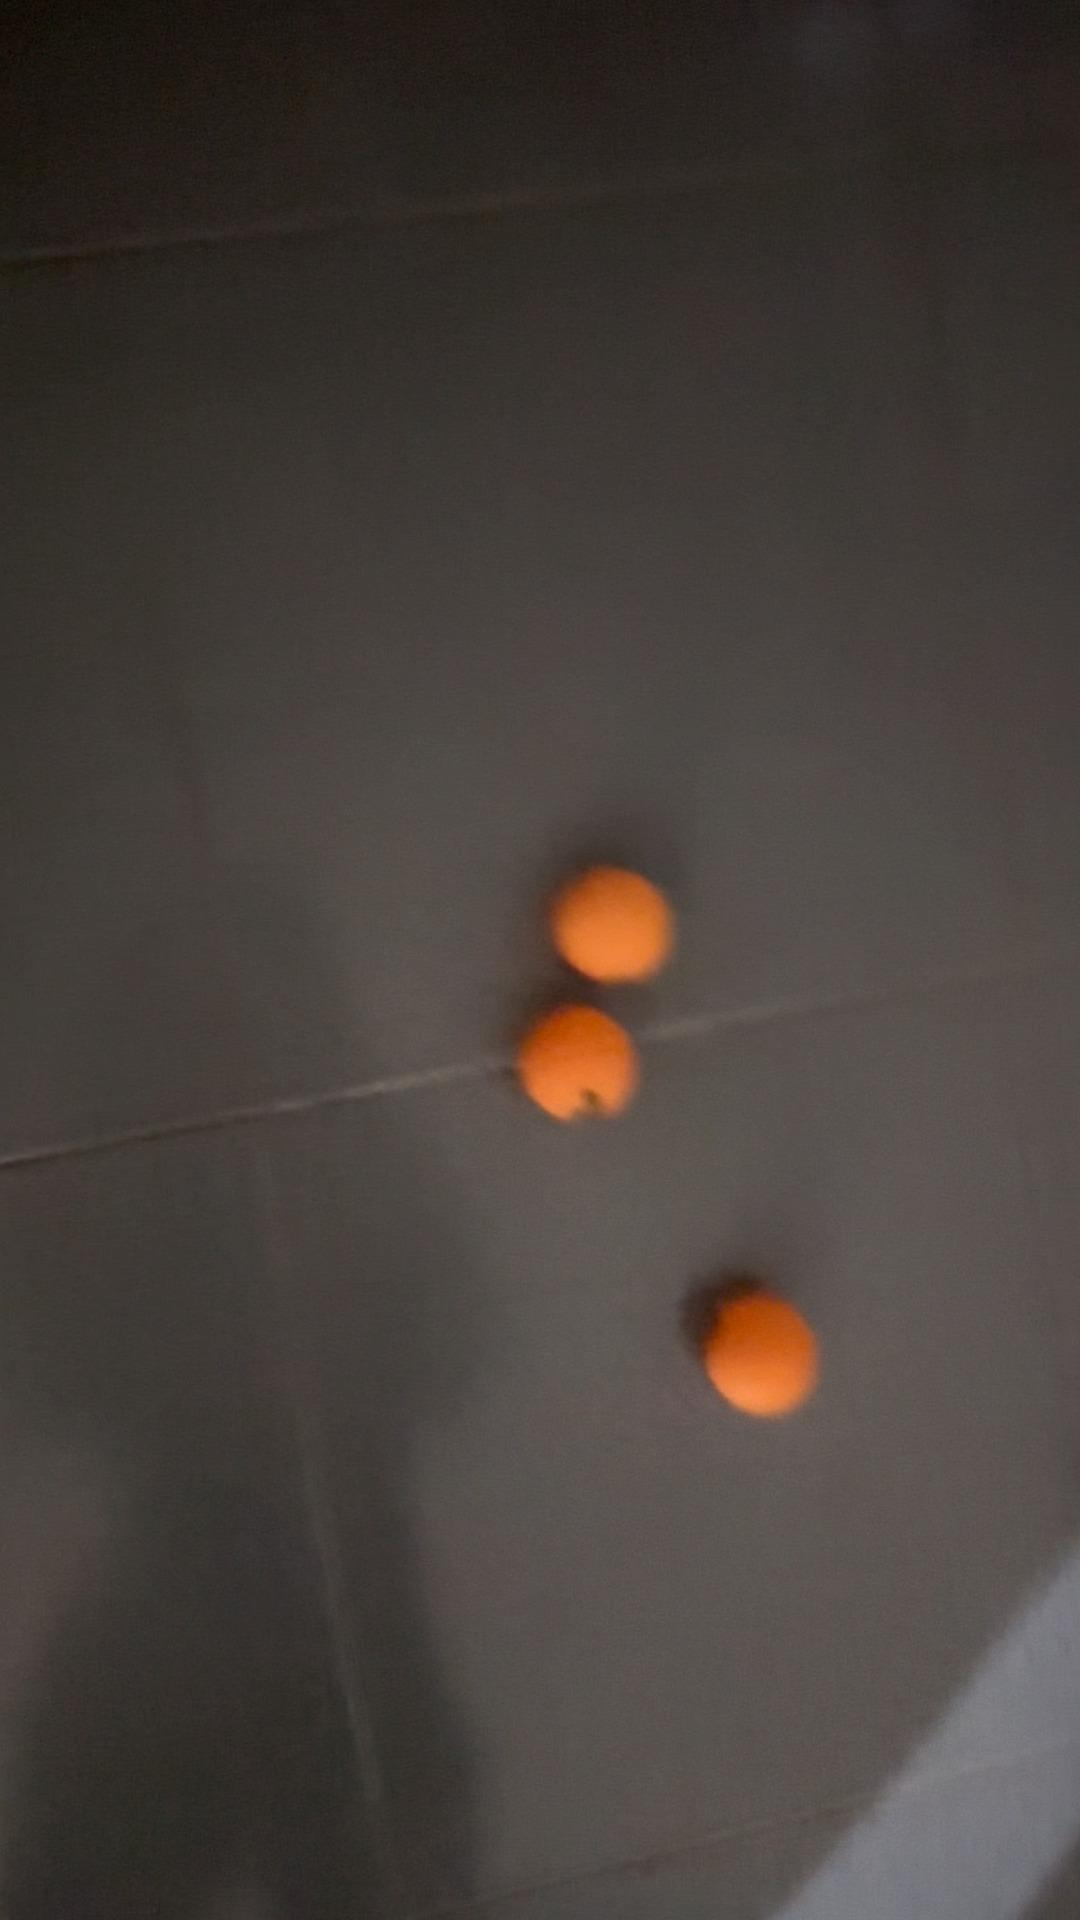oball: (508, 1007, 653, 1137), (682, 1288, 819, 1424), (534, 861, 684, 980)
